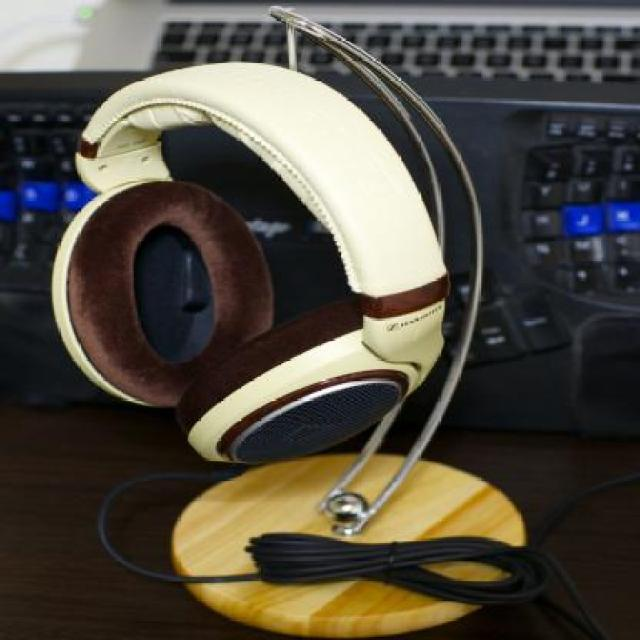earphone: (56, 42, 450, 446)
